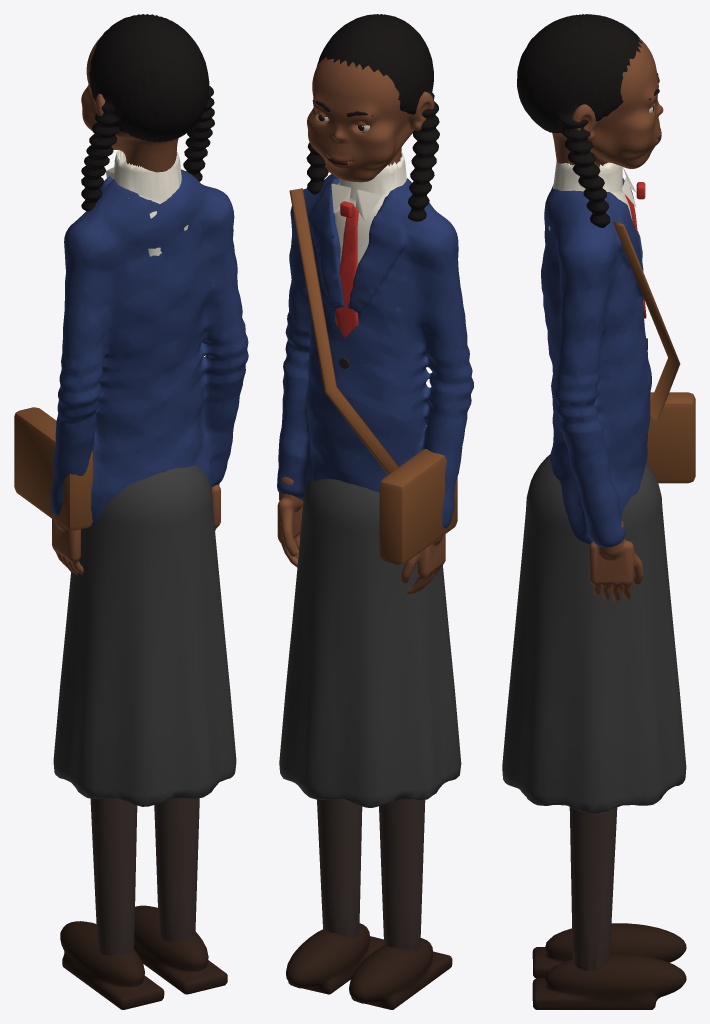
Rendered from pip.fbx.
3 views of the same model, side by side, from view 1: azimuth 30°, elevation 25°; view 2: azimuth 150°, elevation 25°; view 3: azimuth 270°, elevation 25° (orthographic).
Parts seen in each view (by area): view 1: Body, Head, HandR; view 2: Body, Head, HandL, HandR; view 3: Body, Head, HandL.
Boxes of the visible parts, x1,y1,x2,y2 form: Body: (14,150,248,1009); Head: (81,14,214,211); HandR: (52,519,83,574); Body: (277,152,473,1009); Head: (306,14,439,221); HandL: (277,476,303,567); HandR: (400,534,445,594); Body: (502,161,695,1009); Head: (517,14,663,227); HandL: (589,520,643,601).
Size of the model in its own units: 0.3486 by 1.73 by 0.3147.
